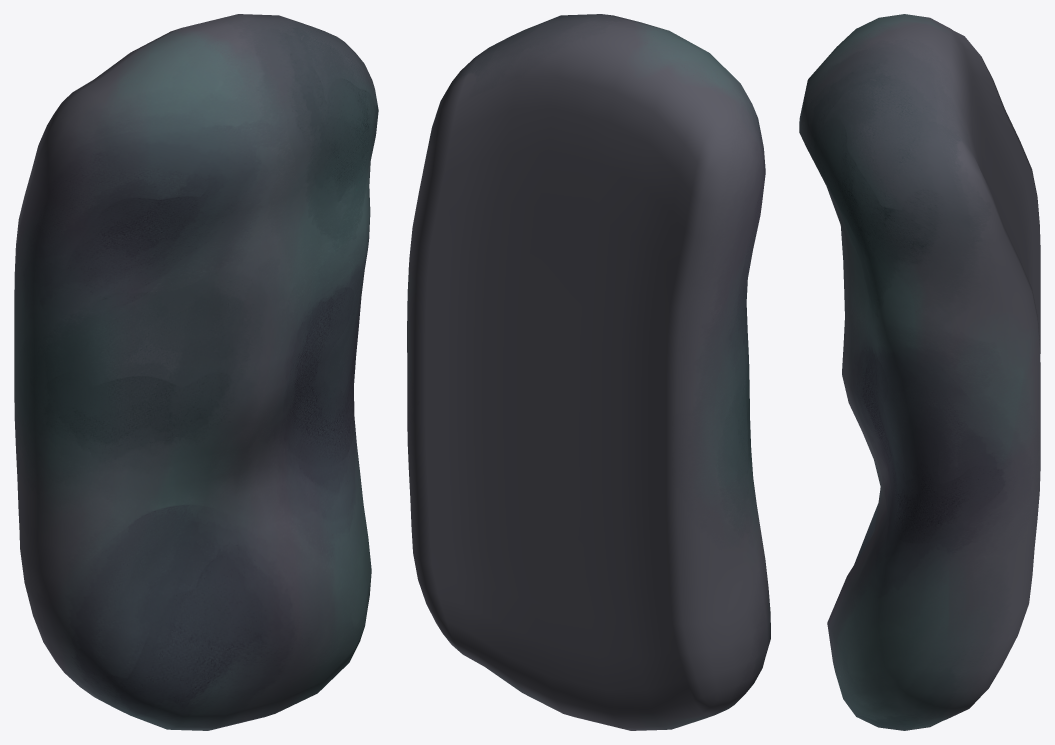
The model's file is CaveWall1.fbx.
3 renders of one model, left to right at view 1: azimuth 30°, elevation 25°; view 2: azimuth 150°, elevation 25°; view 3: azimuth 270°, elevation 25°, orthographic. The views are drawn at different scales.
Parts seen in each view (by area): view 1: CaveWall1; view 2: CaveWall1; view 3: CaveWall1.
Boxes of the visible parts, box(x1,y1,x2,y2) form: CaveWall1: box(14, 14, 378, 730); CaveWall1: box(407, 14, 770, 730); CaveWall1: box(799, 14, 1040, 730).
Bounding box in the file's own units: 147 × 298 × 97.01.
Materials: 1 (1 with a texture image).
